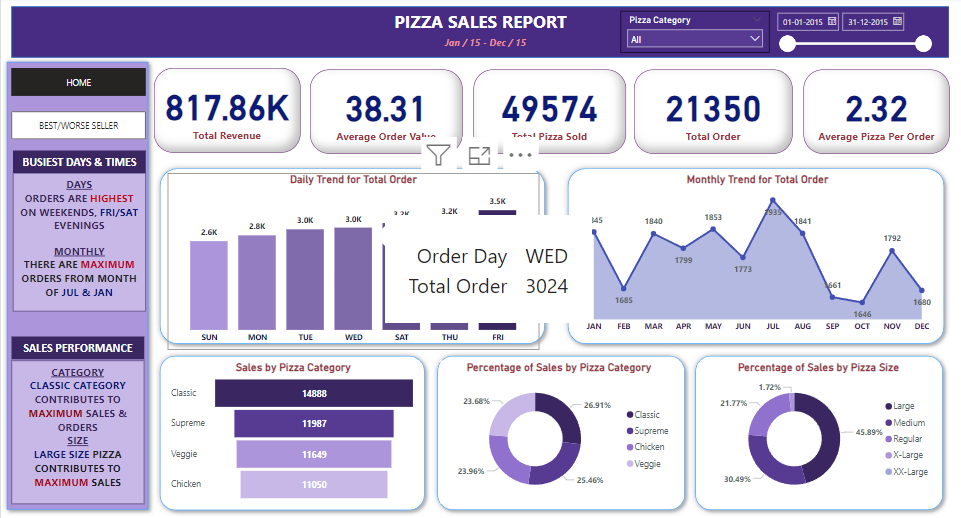

This screenshot's page, from the dashboard's own definition file:
{"tool":"powerbi","page":{"name":"HOME","canvas":[1500,820],"ordinal":0},"visuals":[{"type":"card","fields":{"Values":["pizza_sales.Total Revenue"]},"box":[237.5,112.5,227.1,131.2],"z":0},{"type":"card","fields":{"Values":["pizza_sales.Average Pizza Per Order"]},"box":[1244.2,113.5,226.9,130.8],"z":1000},{"type":"card","fields":{"Values":["pizza_sales.Average Order Value"]},"box":[478.8,113.5,236.5,130.8],"z":2000},{"type":"card","fields":{"Values":["pizza_sales.Total Pizza Sold"]},"box":[732.7,113.5,236.5,130.8],"z":3000},{"type":"card","fields":{"Values":["pizza_sales.Total Order"]},"box":[982.7,113.5,246.2,130.8],"z":4000},{"type":"shape","box":[16.7,16.7,1454.2,79.2],"z":5000},{"type":"textbox","box":[603.8,15.4,292.3,51.9],"z":6000},{"type":"textbox","box":[667.3,55.8,167.3,38.5],"z":7000},{"type":"shape","box":[236.5,257.7,615.4,290.4],"z":8000},{"type":"clusteredColumnChart","title":"Daily Trend for Total Order","fields":{"Category":["pizza_sales.Order Day"],"Y":["pizza_sales.Total Order"]},"box":[257.7,275,576.9,273.1],"z":9000},{"type":"shape","box":[869.2,257.7,601.9,290.4],"z":10000},{"type":"areaChart","title":"Monthly Trend for Total Order","fields":{"Y":["pizza_sales.Total Order"],"Category":["pizza_sales.Order Month"]},"box":[896.2,275,555.8,255.8],"z":11000},{"type":"shape","box":[236.5,548.1,428.8,257.7],"z":12000},{"type":"shape","box":[666.6,548.9,402.2,257.2],"z":13000},{"type":"funnel","title":"Sales by Pizza Category","fields":{"Category":["pizza_sales.pizza_category"],"Y":["Sum(pizza_sales.quantity)"]},"box":[257.7,565.4,390.4,223.1],"z":14000},{"type":"shape","box":[1068.8,548.9,402.2,257.2],"z":15000},{"type":"donutChart","title":"Percentage of Sales by Pizza Category","fields":{"Category":["pizza_sales.pizza_category"],"Y":["pizza_sales.Total Revenue"]},"box":[681.1,565.2,367.7,222.8],"z":16000},{"type":"donutChart","title":"Percentage of Sales by Pizza Size","fields":{"Y":["pizza_sales.Total Revenue"],"Category":["pizza_sales.pizza_size"]},"box":[1085.1,565.2,367.7,222.8],"z":17000},{"type":"shape","box":[0,93.8,237.5,712.5],"z":18000},{"type":"textbox","box":[18.8,239.6,206.2,35.4],"z":19000},{"type":"textbox","box":[18.8,275,206.2,214.6],"z":20000},{"type":"textbox","box":[16.7,529.2,206.2,35.4],"z":21000},{"type":"textbox","box":[16.7,564.6,206.2,222.9],"z":22000},{"type":"slicer","fields":{"Values":["pizza_sales.pizza_category"]},"box":[960.4,22.9,231.2,64.6],"z":23000},{"type":"slicer","fields":{"Values":["pizza_sales.order_date"]},"box":[1191.7,16.7,260.4,72.9],"z":24000},{"type":"pageNavigator","box":[16.7,112.5,208.3,43.8],"z":25000},{"type":"pageNavigator","box":[16.7,179.2,208.3,43.8],"z":26000}]}

Visuals, with their boxes in screenshot pixels (x1, y1, x2, y2), scaled from the page's 1500x820 canvas onto the 961x518 screenshot:
card - pizza_sales.Total Revenue: rect(152, 71, 298, 154)
card - pizza_sales.Average Pizza Per Order: rect(797, 72, 942, 154)
card - pizza_sales.Average Order Value: rect(307, 72, 458, 154)
card - pizza_sales.Total Pizza Sold: rect(469, 72, 621, 154)
card - pizza_sales.Total Order: rect(630, 72, 787, 154)
shape: rect(11, 11, 942, 61)
textbox: rect(387, 10, 574, 43)
textbox: rect(428, 35, 535, 60)
shape: rect(152, 163, 546, 346)
"Daily Trend for Total Order" clusteredColumnChart: rect(165, 174, 535, 346)
shape: rect(557, 163, 942, 346)
"Monthly Trend for Total Order" areaChart: rect(574, 174, 930, 335)
shape: rect(152, 346, 426, 509)
shape: rect(427, 347, 685, 509)
"Sales by Pizza Category" funnel: rect(165, 357, 415, 498)
shape: rect(685, 347, 942, 509)
"Percentage of Sales by Pizza Category" donutChart: rect(436, 357, 672, 498)
"Percentage of Sales by Pizza Size" donutChart: rect(695, 357, 931, 498)
shape: rect(0, 59, 152, 509)
textbox: rect(12, 151, 144, 174)
textbox: rect(12, 174, 144, 309)
textbox: rect(11, 334, 143, 357)
textbox: rect(11, 357, 143, 497)
slicer - pizza_sales.pizza_category: rect(615, 14, 763, 55)
slicer - pizza_sales.order_date: rect(763, 11, 930, 57)
pageNavigator: rect(11, 71, 144, 99)
pageNavigator: rect(11, 113, 144, 141)
